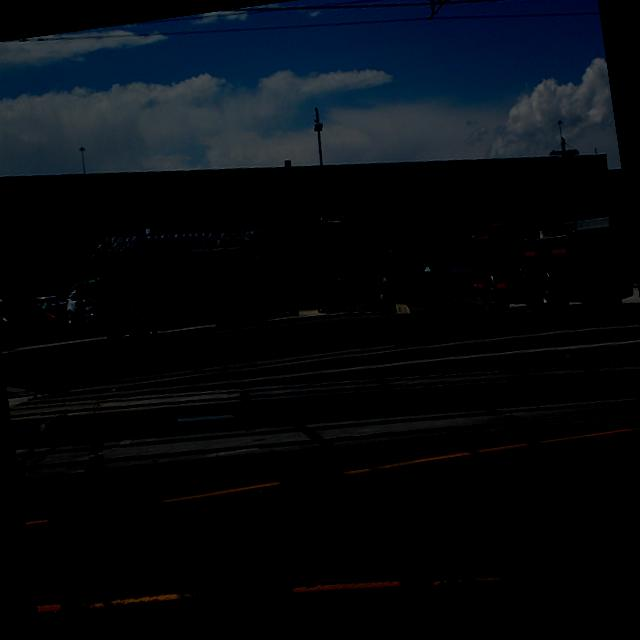Vehicle: (58, 211, 302, 352), (464, 203, 636, 327), (313, 265, 364, 310), (21, 294, 78, 332), (62, 280, 102, 334), (0, 294, 33, 334)
